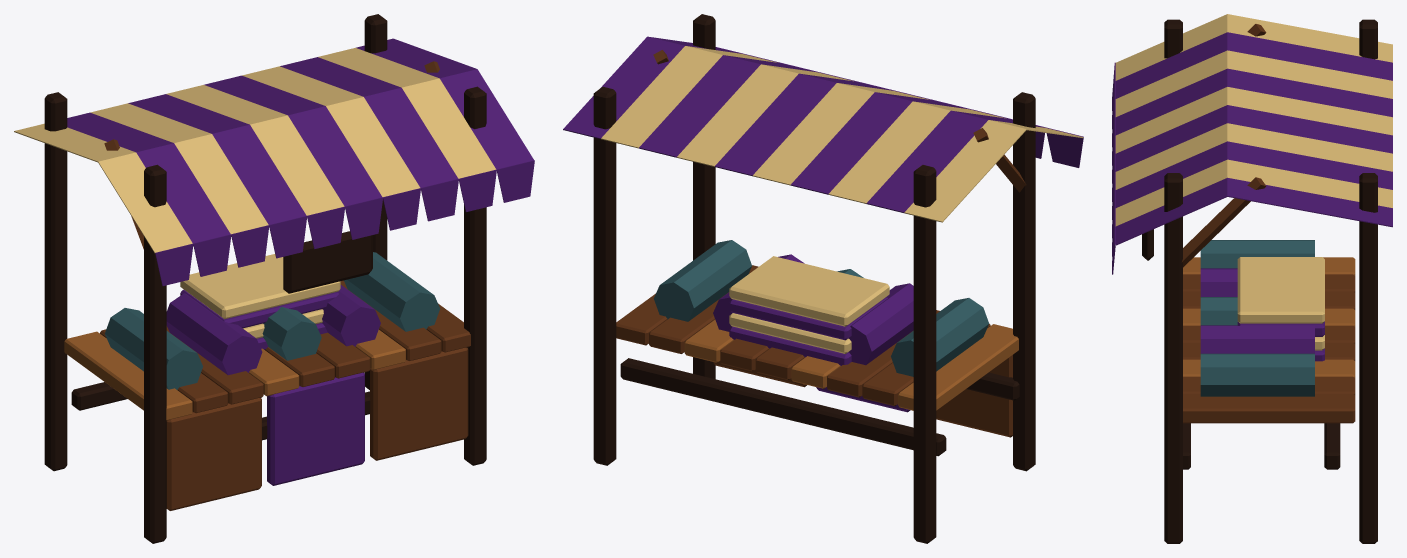
The model's file is Banca_de_tecidos_LOD0.fbx.
3 renders of one model, left to right at view 1: azimuth 30°, elevation 25°; view 2: azimuth 150°, elevation 25°; view 3: azimuth 270°, elevation 25°, orthographic.
Parts seen in each view (by area): view 1: Banca_de_tecidos_LOD0; view 2: Banca_de_tecidos_LOD0; view 3: Banca_de_tecidos_LOD0.
Part boxes in pixels (left/top/right/bottom): Banca_de_tecidos_LOD0: left=14, top=14, right=534, bottom=543; Banca_de_tecidos_LOD0: left=563, top=14, right=1083, bottom=543; Banca_de_tecidos_LOD0: left=1112, top=14, right=1392, bottom=543.
Size of the model in its own units: 320 by 300 by 209.
1 material, 1 textured.
